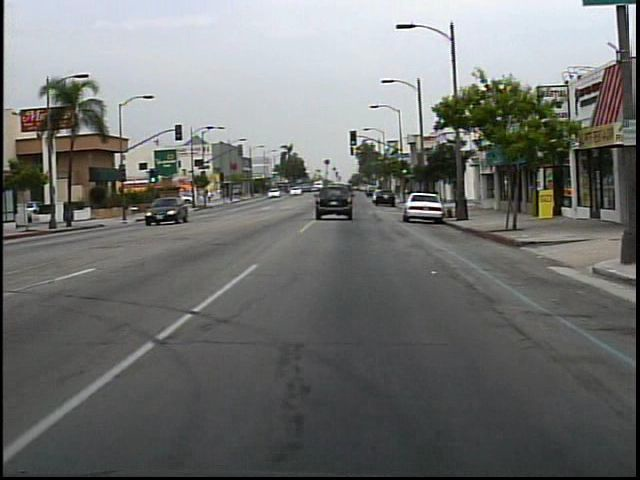person: (206, 187, 214, 206)
